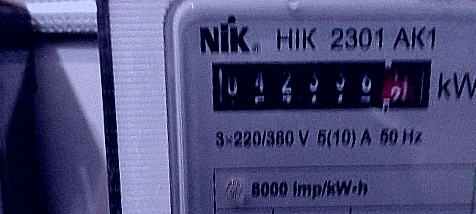0: (223, 68, 239, 98)
2: (275, 65, 296, 94)
3: (302, 63, 321, 93), (331, 62, 347, 91)
4: (249, 66, 268, 95)
6: (357, 66, 374, 94)
screen: (197, 34, 443, 135)
